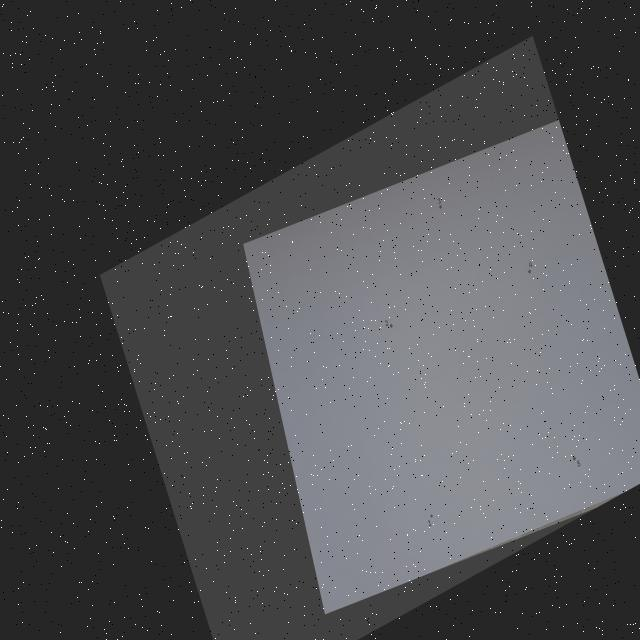Dot: (573, 456, 576, 461), (390, 324, 393, 328), (528, 270, 531, 274), (439, 205, 442, 209), (430, 514, 433, 518)
DotNumber: (572, 456, 580, 467), (428, 514, 433, 527), (384, 320, 392, 328), (437, 198, 442, 209), (528, 262, 532, 274)
Number: (577, 459, 581, 467), (385, 320, 389, 327), (528, 261, 532, 268), (437, 198, 441, 204), (428, 520, 432, 526)
